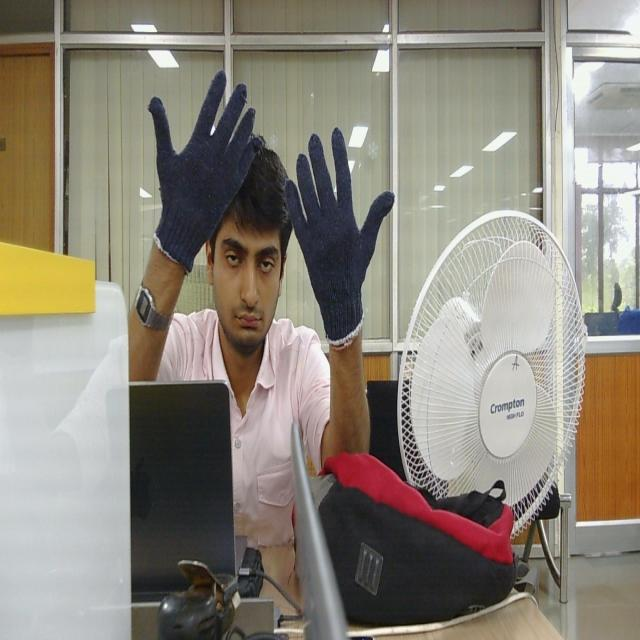Gloves-Detection: (284, 126, 394, 344), (144, 72, 257, 270)
